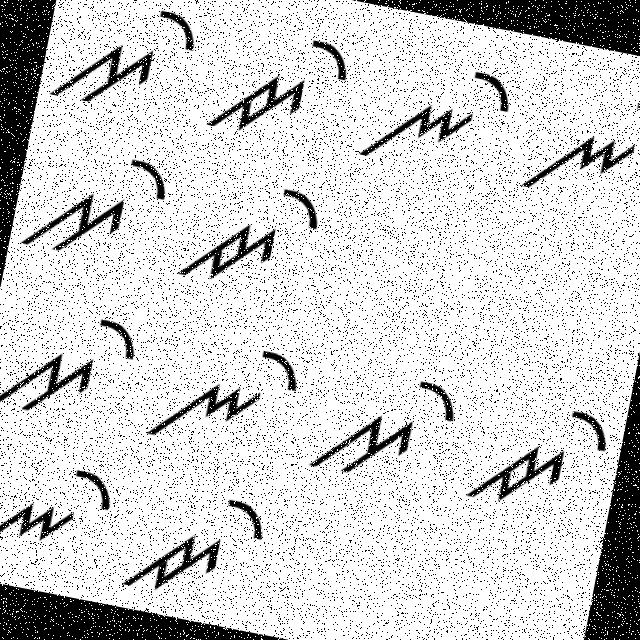jay: (120, 468, 276, 619), (464, 384, 619, 530), (206, 15, 356, 158), (177, 168, 327, 304)
nyay: (143, 324, 310, 467), (358, 44, 522, 184), (0, 435, 127, 588), (515, 73, 639, 217)
say: (309, 348, 470, 496), (0, 289, 145, 442), (19, 136, 176, 274), (43, 0, 206, 128)
